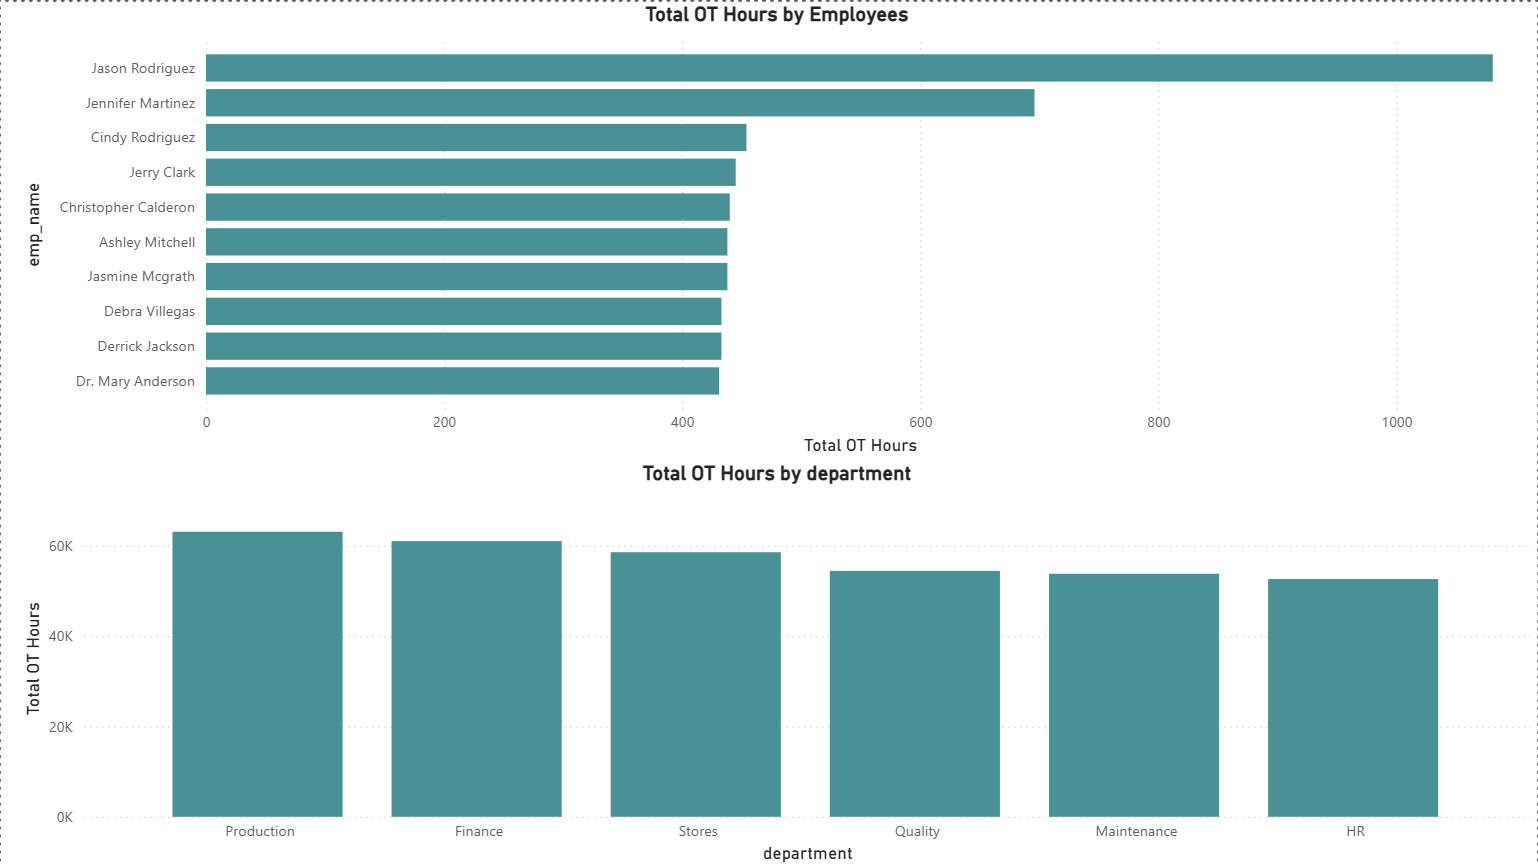

This screenshot's page, from the dashboard's own definition file:
{"tool":"powerbi","page":{"name":"Overtime Analytics","canvas":[1280,720],"ordinal":2},"visuals":[{"type":"clusteredBarChart","title":"Total OT Hours by Employees","fields":{"Category":["public employees.emp_name"],"Y":["public overtime.Total OT Hours"]},"box":[13.3,0,1266.7,381.7],"z":0},{"type":"clusteredColumnChart","fields":{"Category":["public employees.department"],"Y":["public overtime.Total OT Hours"]},"box":[13.3,381.7,1266.7,340],"z":1000}]}

Visuals, with their boxes in screenshot pixels (x1, y1, x2, y2), scaled from the page's 1280x720 canvas onto the 1538x866 screenshot:
"Total OT Hours by Employees" clusteredBarChart: pyautogui.locateOnScreen(16, 0, 1537, 459)
clusteredColumnChart - public employees.department x public overtime.Total OT Hours: pyautogui.locateOnScreen(16, 459, 1537, 865)
